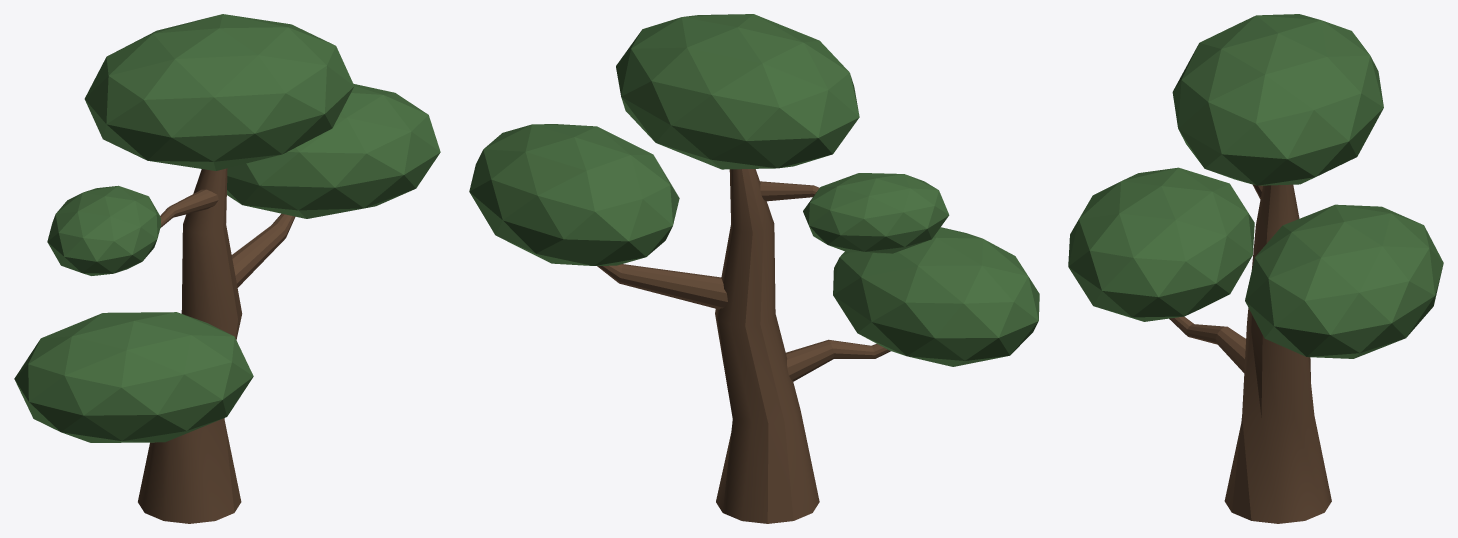
File: oval.glb
3 views of the same model, side by side, from view 1: azimuth 30°, elevation 25°; view 2: azimuth 150°, elevation 25°; view 3: azimuth 270°, elevation 25° (orthographic). The views are drawn at different scales.
Parts seen in each view (by area): view 1: Cylinder.002; view 2: Cylinder.002; view 3: Cylinder.002.
Boxes of the visible parts, left/top/right/bottom form: Cylinder.002: left=14, top=14, right=440, bottom=523; Cylinder.002: left=469, top=14, right=1039, bottom=523; Cylinder.002: left=1068, top=14, right=1443, bottom=523.
Size of the model in its own units: 6.44 by 5.96 by 4.2.
